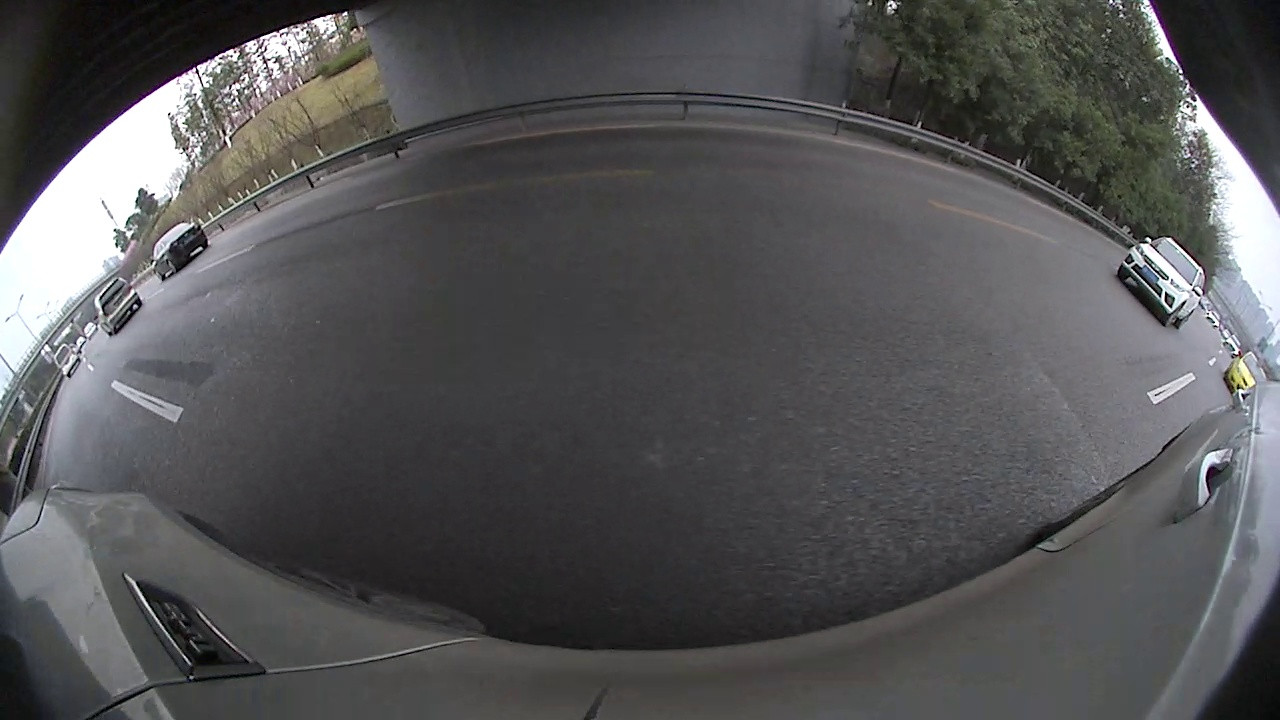car: (1115, 233, 1207, 329), (150, 220, 209, 283), (91, 274, 144, 338), (1221, 350, 1268, 395), (50, 344, 81, 377)
front: (1165, 303, 1183, 328)
rear: (167, 259, 177, 274)
